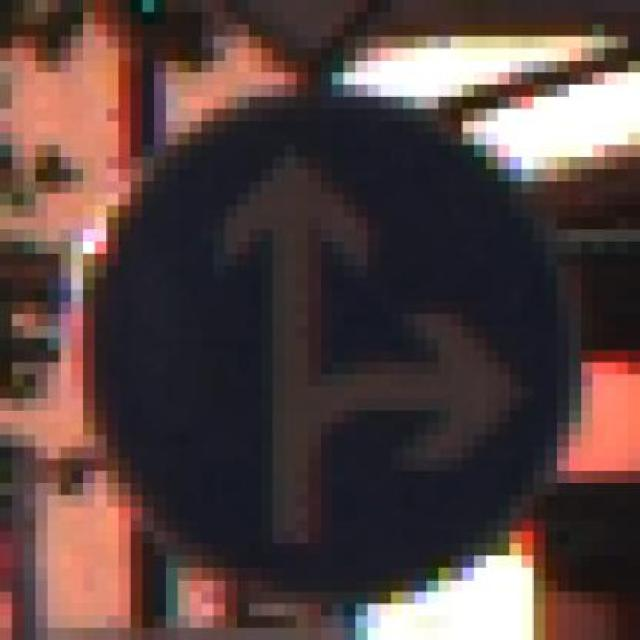Go Straight or Turn Right: (59, 72, 593, 605)
